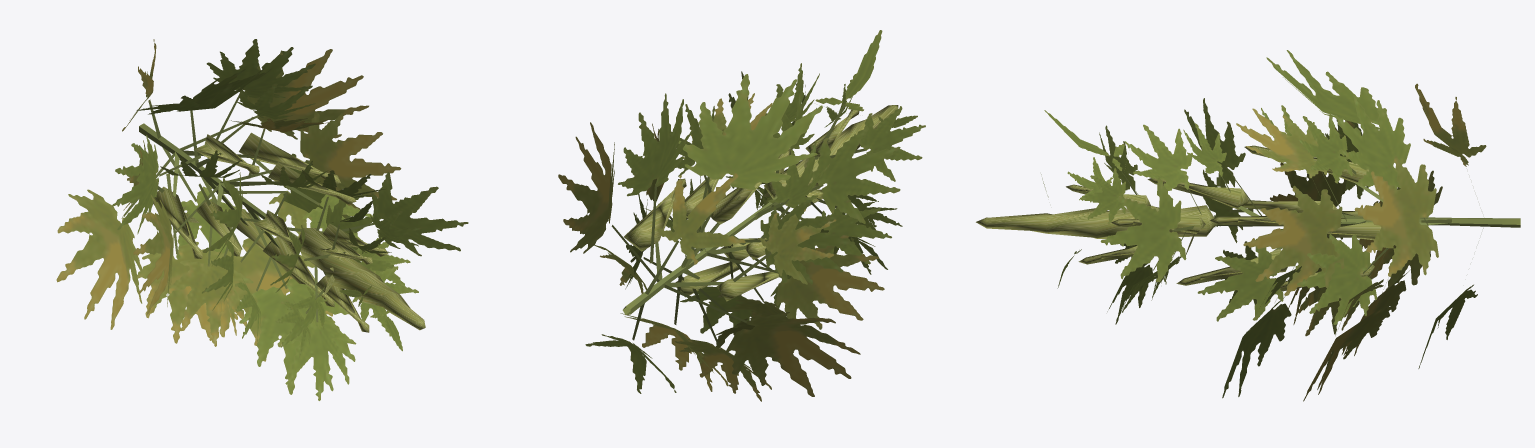
The model's file is p_haze_ripe_c1_cards.obj.
3 views of the same model, side by side, from view 1: azimuth 30°, elevation 25°; view 2: azimuth 150°, elevation 25°; view 3: azimuth 270°, elevation 25° (orthographic). The views are drawn at different scales.
Size of the model in its own units: 1.64 by 1.53 by 2.03.
Materials: 1 (1 with a texture image).
